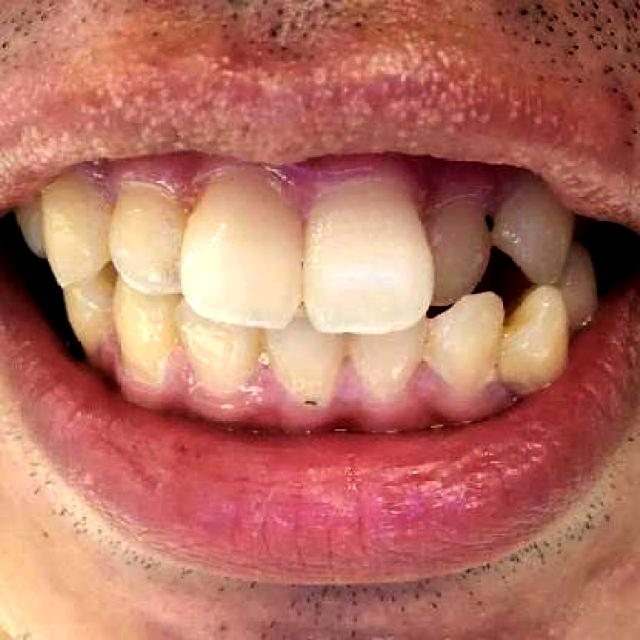Plaque: (295, 383, 329, 416)
